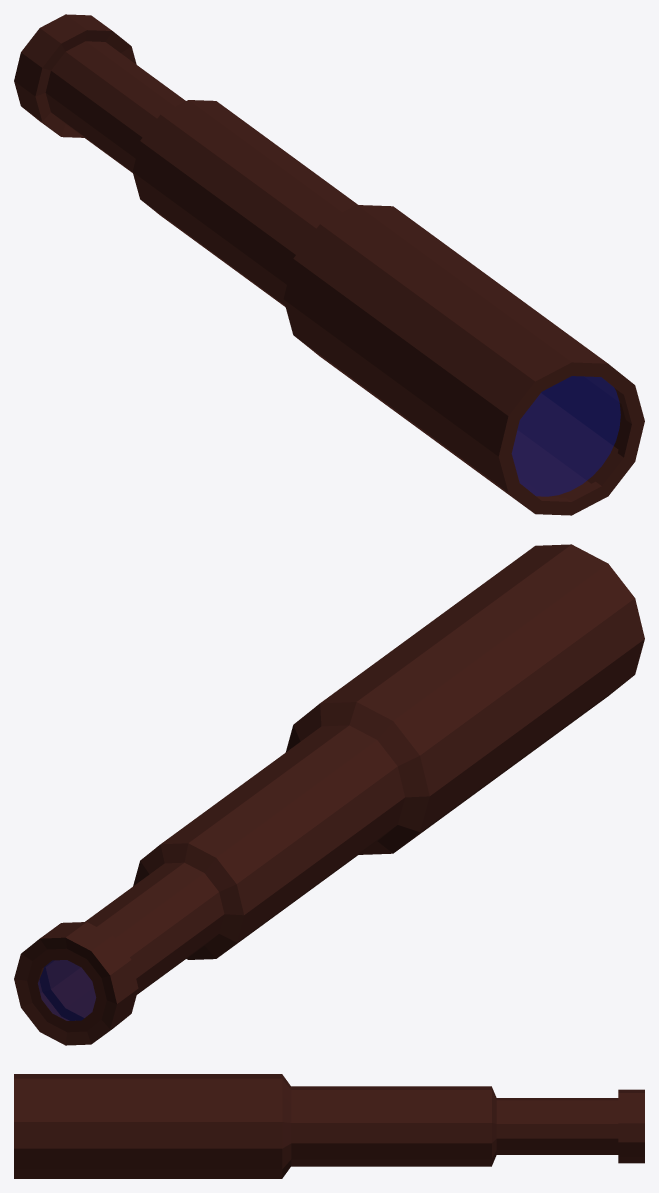
File: Spyglass1.fbx
The picture shows the model from 3 angles, top to bottom: view 1: azimuth 30°, elevation 25°; view 2: azimuth 150°, elevation 25°; view 3: azimuth 270°, elevation 25°; orthographic projection. The views are drawn at different scales.
Parts seen in each view (by area): view 1: telescope; view 2: telescope; view 3: telescope.
Boxes of the visible parts, x1,y1,x2,y2 form: telescope: (14,14,644,515); telescope: (14,544,644,1045); telescope: (14,1074,644,1178).
Bounding box in the file's own units: 18.04 × 18.04 × 108.
